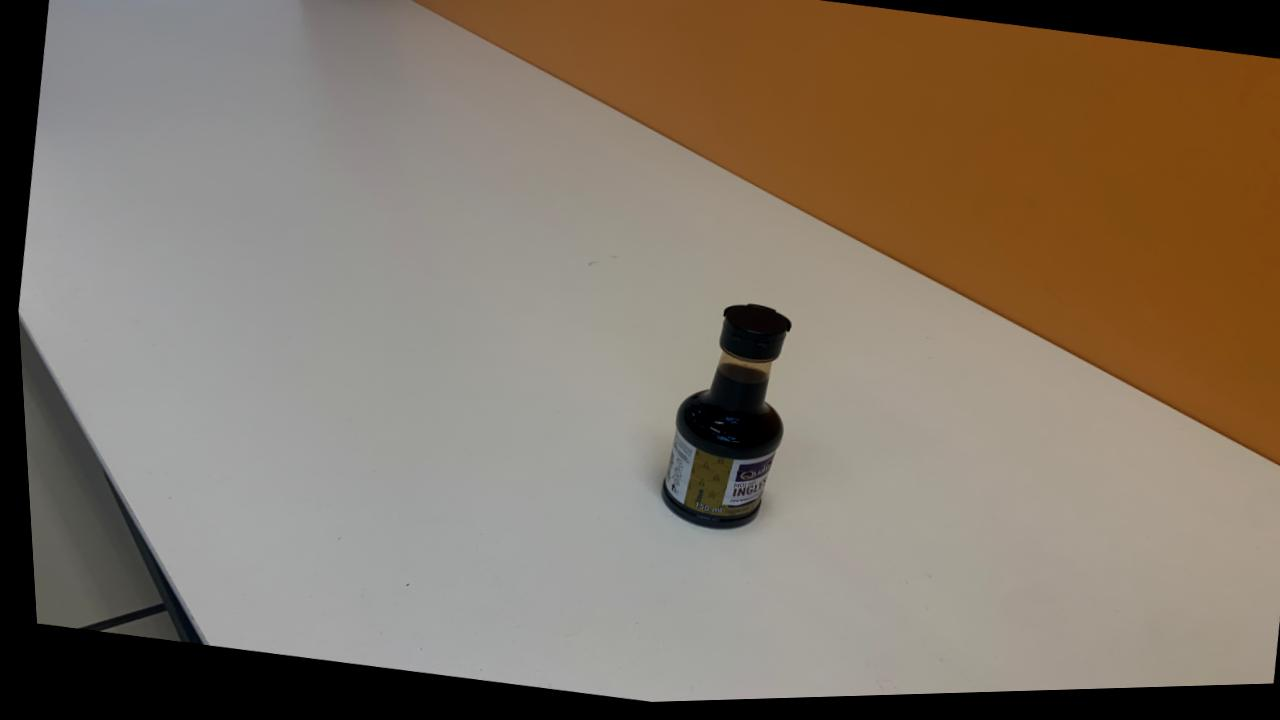English_Sauce-Pantry_Items: (655, 308, 787, 533)
